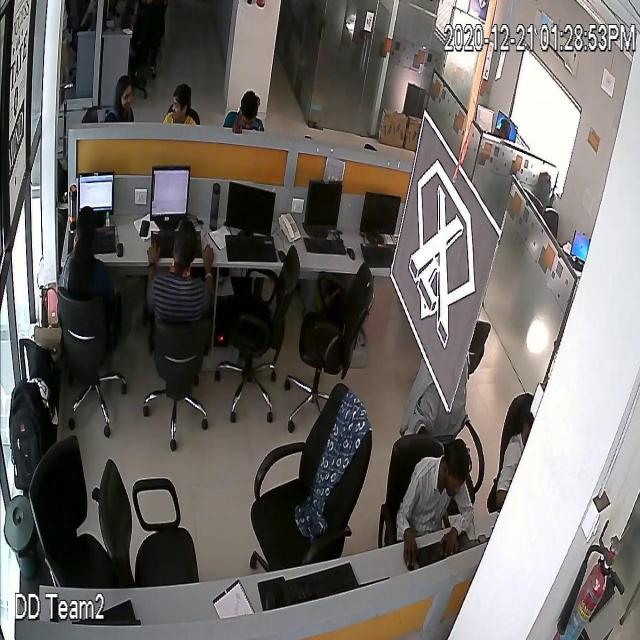chair: (242, 380, 370, 566), (96, 449, 204, 586), (27, 426, 107, 609), (227, 248, 301, 434), (56, 289, 130, 440), (148, 308, 214, 456), (419, 337, 486, 479), (304, 262, 376, 394), (376, 417, 440, 547), (491, 370, 527, 522), (130, 0, 165, 92), (463, 312, 491, 370), (535, 186, 563, 236)
keyboard: (284, 558, 362, 608), (408, 539, 464, 569), (222, 235, 278, 264), (151, 230, 203, 259), (303, 232, 345, 257), (359, 242, 395, 269), (84, 222, 118, 248)
monitor: (223, 174, 276, 241), (151, 164, 189, 226), (305, 178, 343, 235), (360, 188, 400, 241), (78, 167, 114, 217), (497, 108, 518, 146), (572, 226, 590, 262), (476, 99, 494, 132)
person: (400, 432, 478, 564), (62, 202, 116, 300), (502, 401, 534, 496), (158, 75, 198, 125), (226, 84, 262, 132), (102, 77, 136, 122), (498, 119, 510, 137)
phone: (138, 217, 150, 242)
